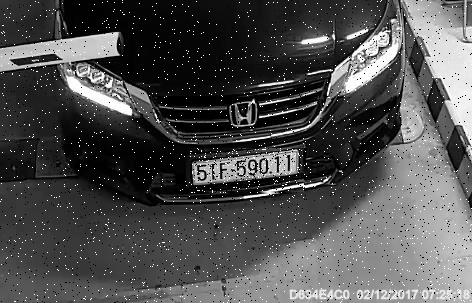License-plate: (191, 150, 307, 195)
